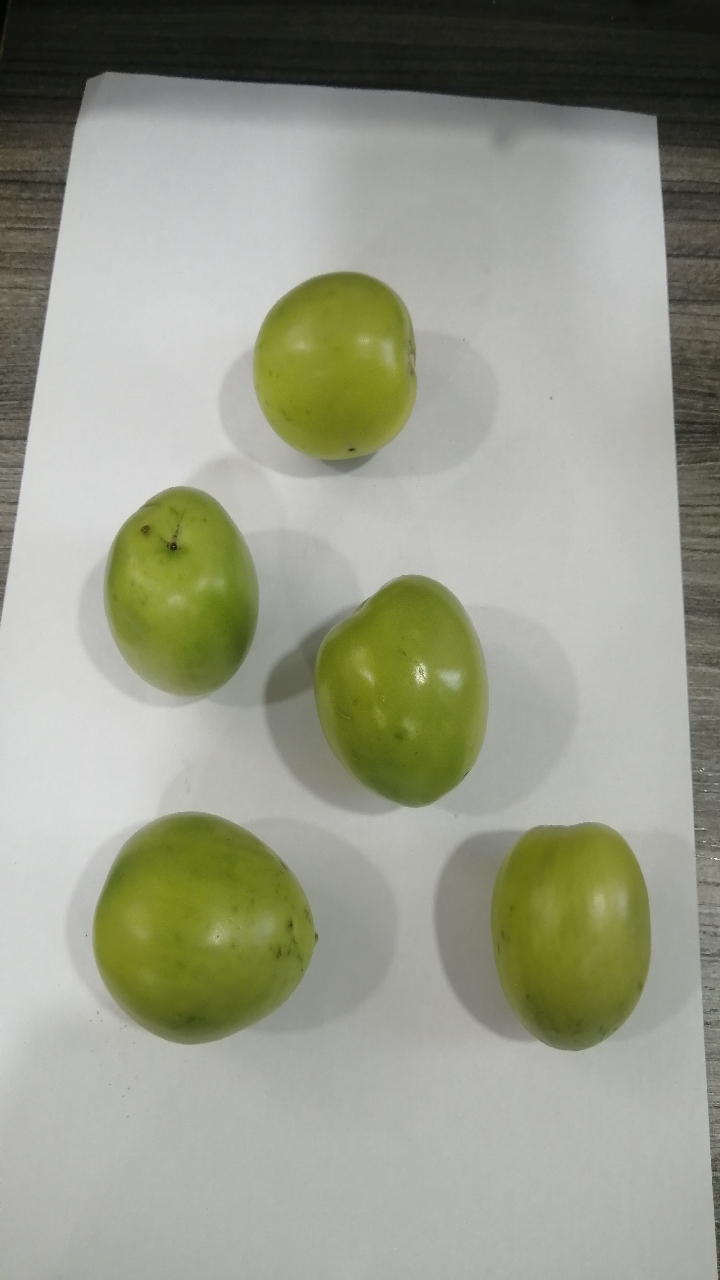tomateVerde: (77, 783, 326, 1051), (289, 563, 509, 811), (243, 234, 452, 471), (475, 805, 666, 1063), (80, 462, 278, 706)
